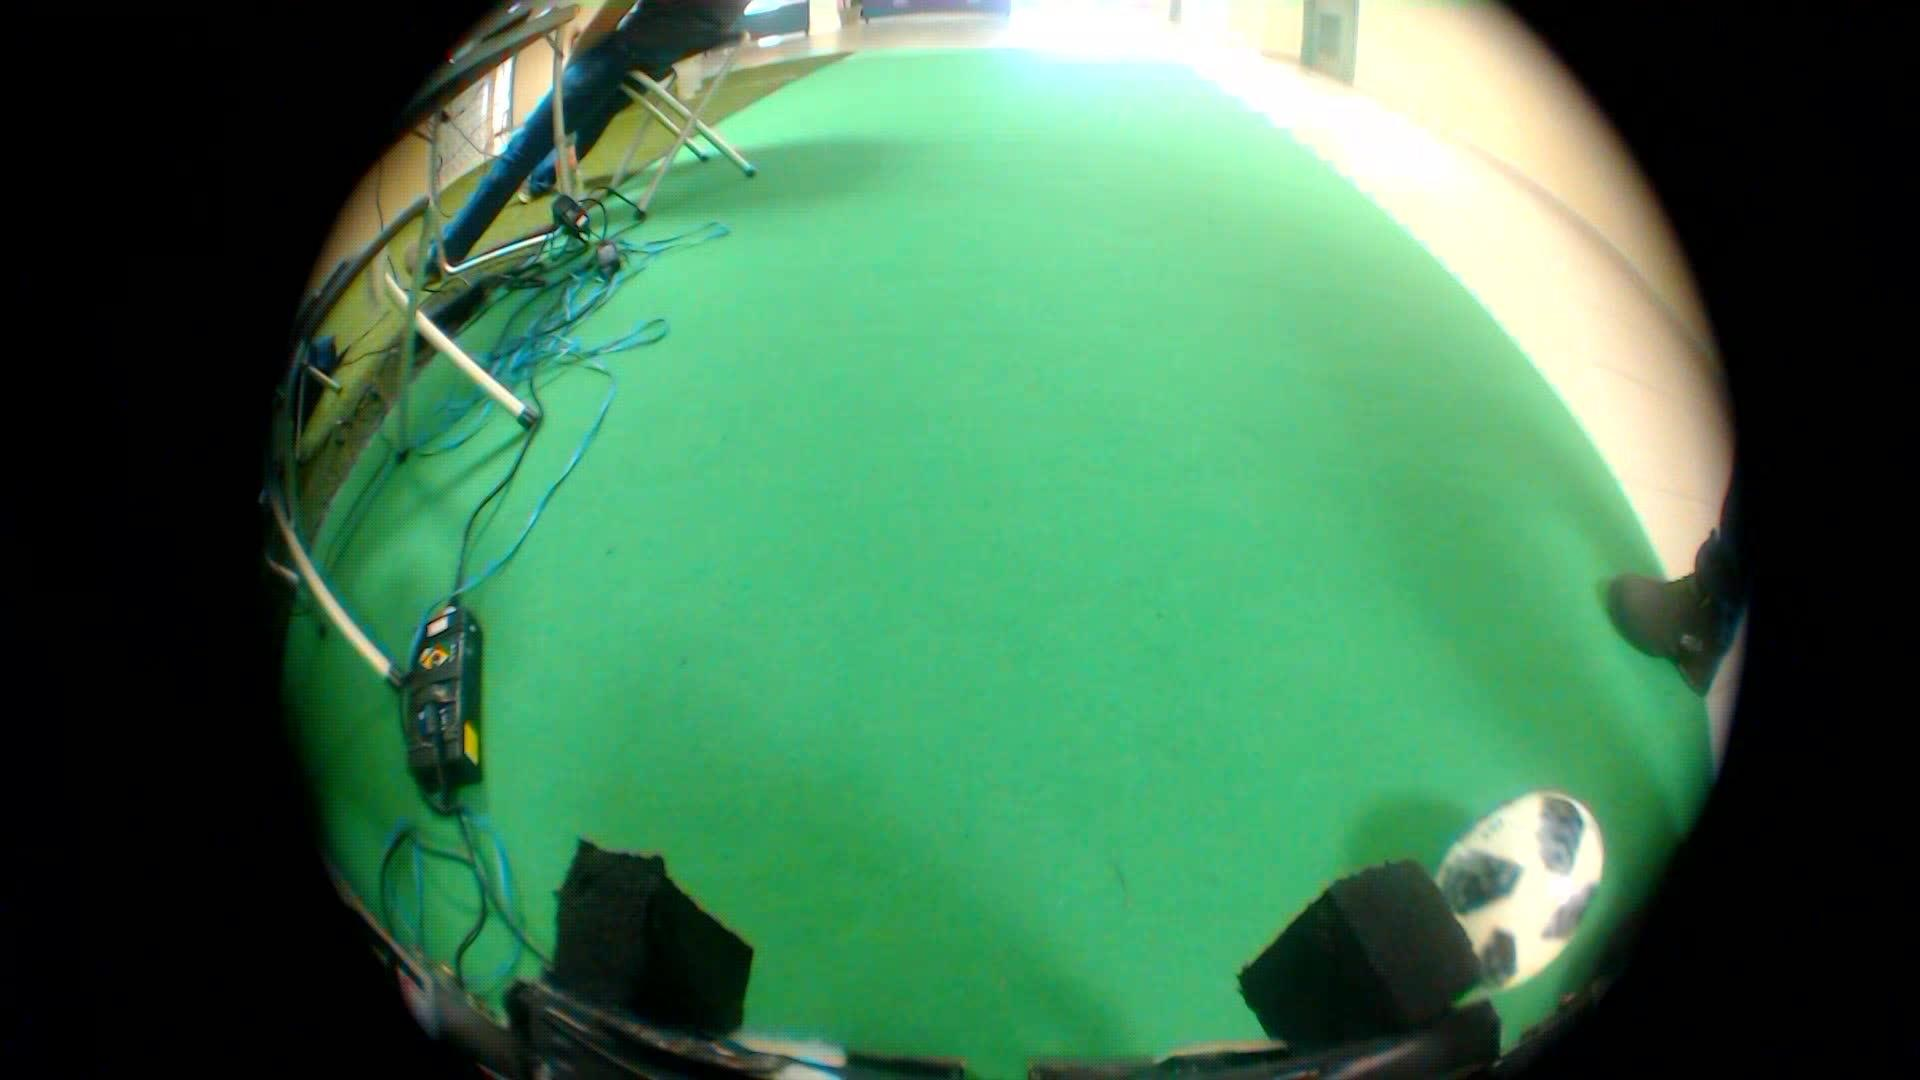ball: (1346, 761, 1643, 1046)
